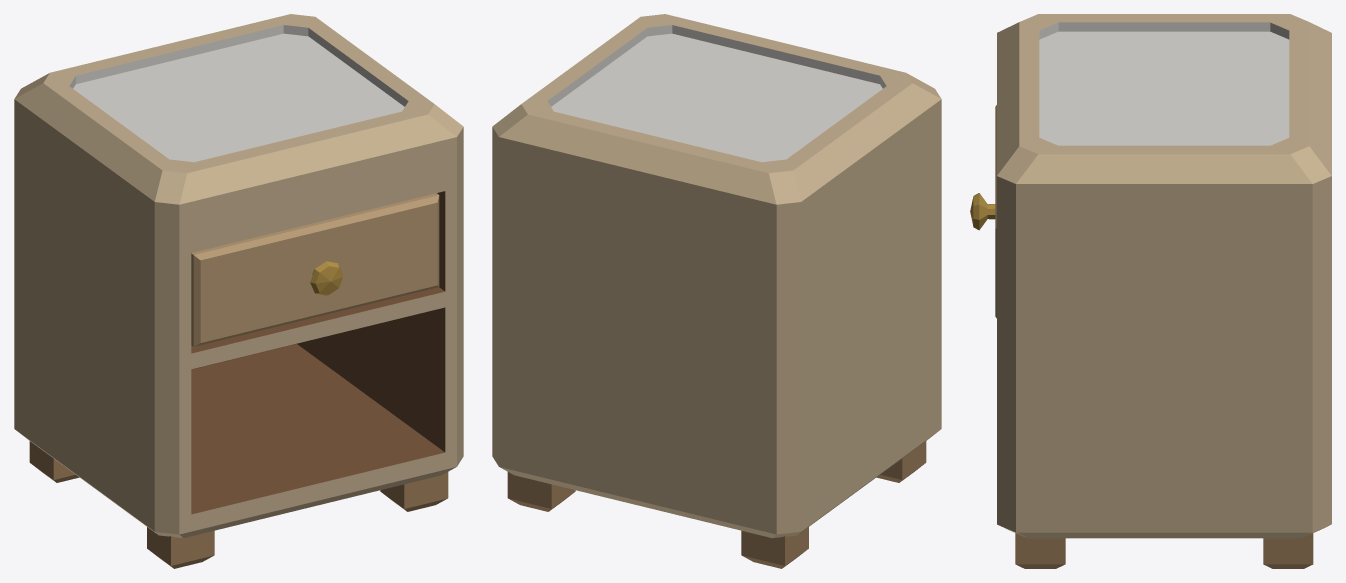
Rendered from bedside-table-740c6b.glb.
The picture shows the model from 3 angles, left to right: view 1: azimuth 30°, elevation 25°; view 2: azimuth 150°, elevation 25°; view 3: azimuth 270°, elevation 25°; orthographic projection. The views are drawn at different scales.
Visible parts, largest first — view 1: bedside-table, drawer; view 2: bedside-table; view 3: bedside-table, drawer.
Part boxes in pixels (box(x1,y1,x2,y2)): bedside-table: box(14, 14, 463, 568); drawer: box(191, 193, 439, 346); bedside-table: box(492, 14, 941, 568); bedside-table: box(997, 14, 1331, 568); drawer: box(970, 105, 996, 318).
Bounding box in the file's own units: 0.45 × 0.55 × 0.432.
